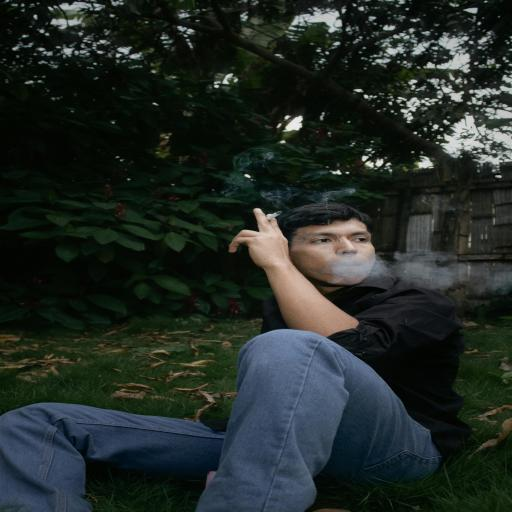asap rokok: (315, 238, 395, 296)
pegang rokok: (220, 194, 297, 256)
